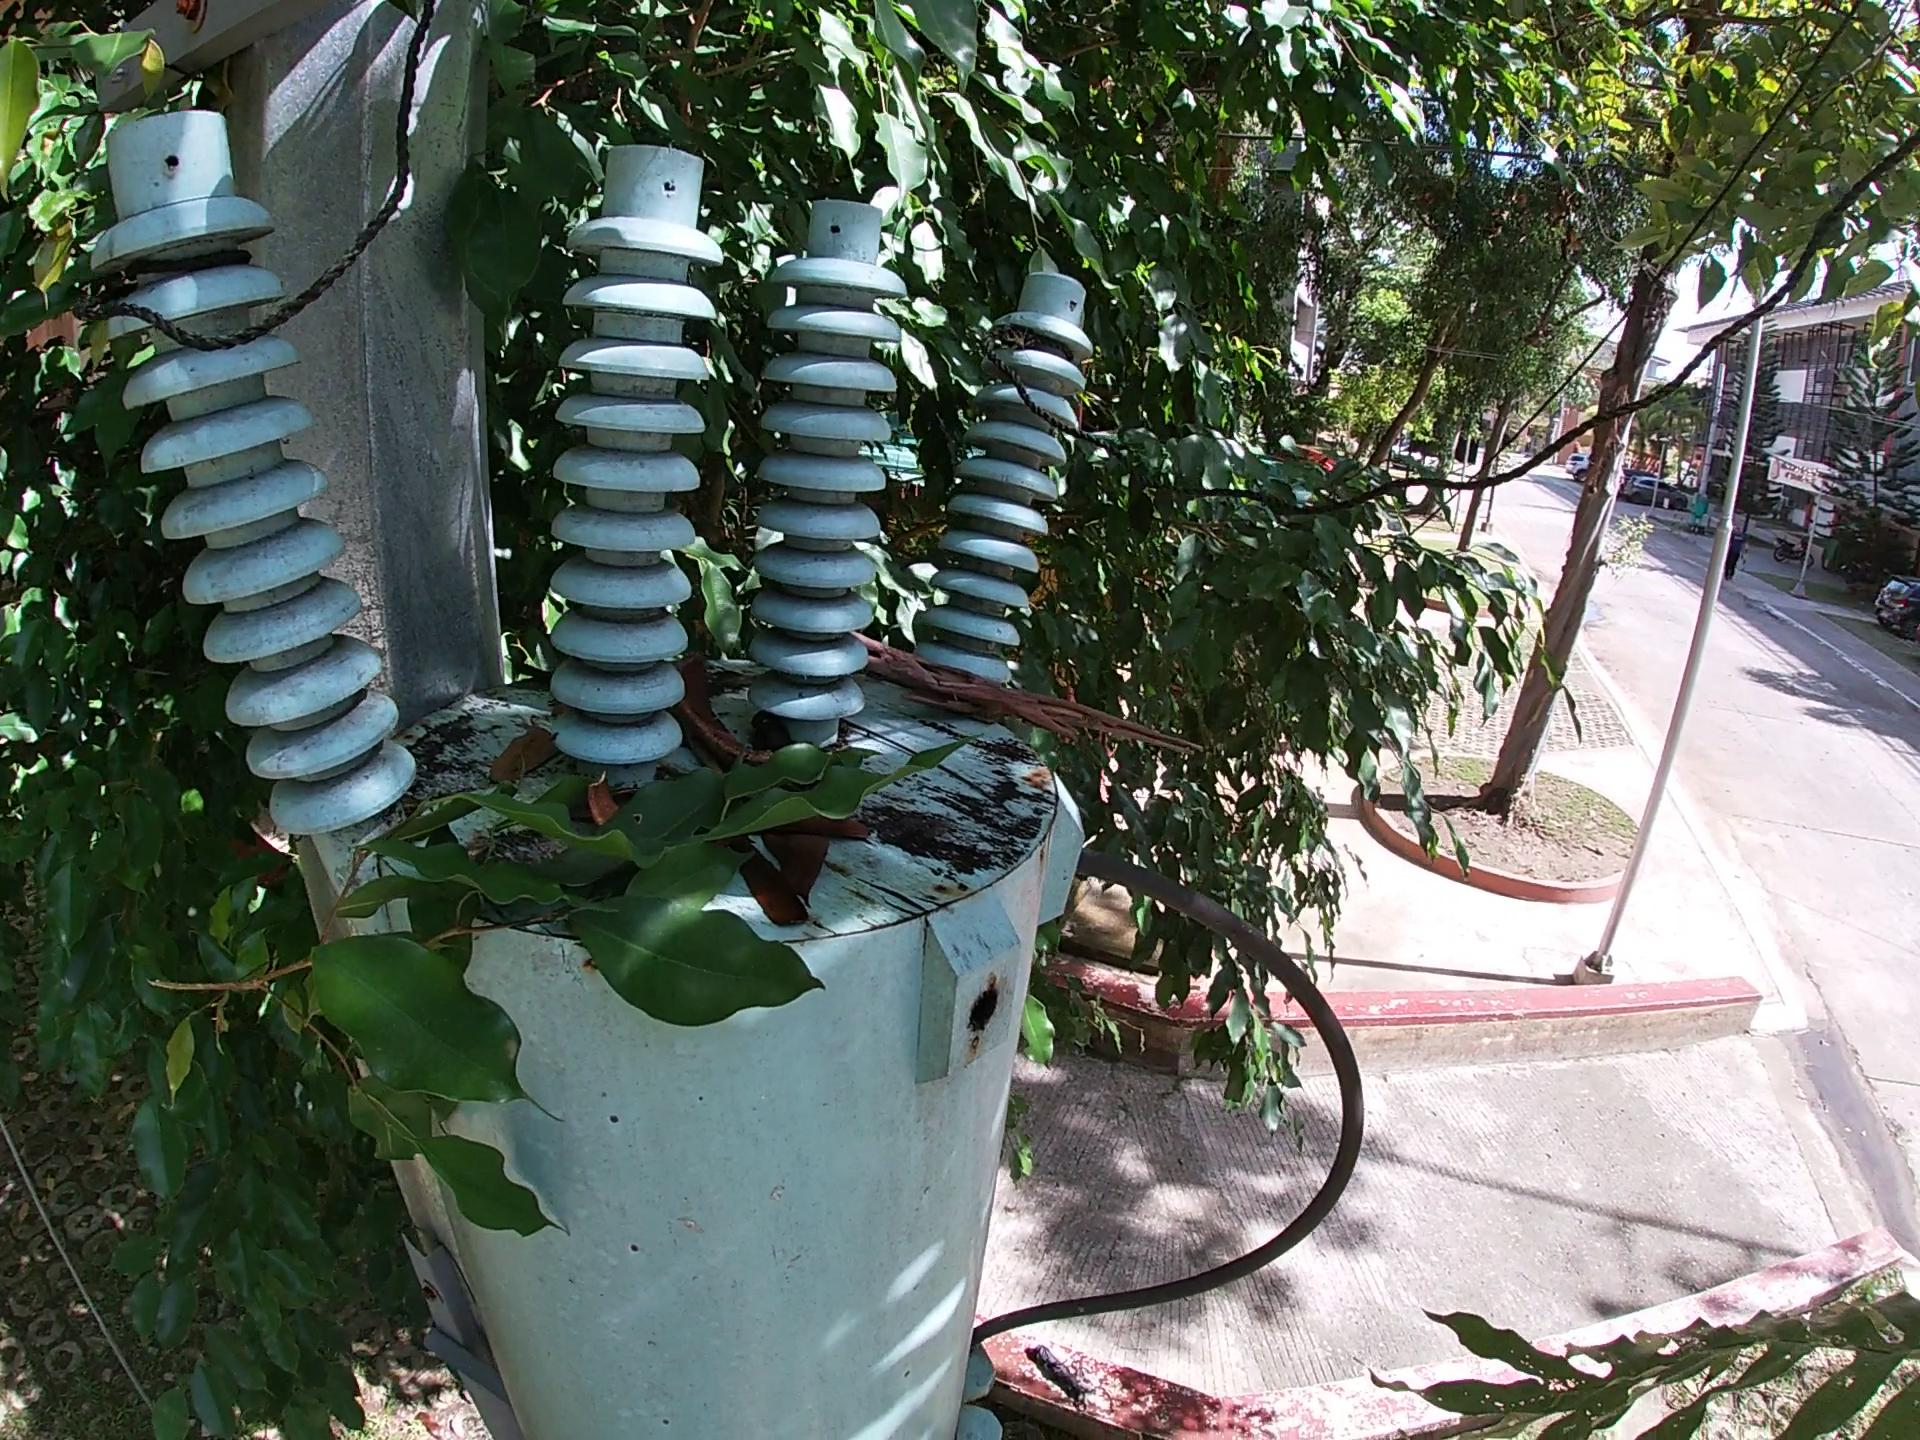branch with leaves: (138, 728, 1002, 1249)
leaf: (730, 838, 816, 930), (760, 826, 839, 911), (481, 725, 565, 802), (788, 812, 886, 855)
mahogany fruit: (671, 653, 776, 771), (584, 767, 620, 830)
tree branch: (850, 628, 1209, 765)
